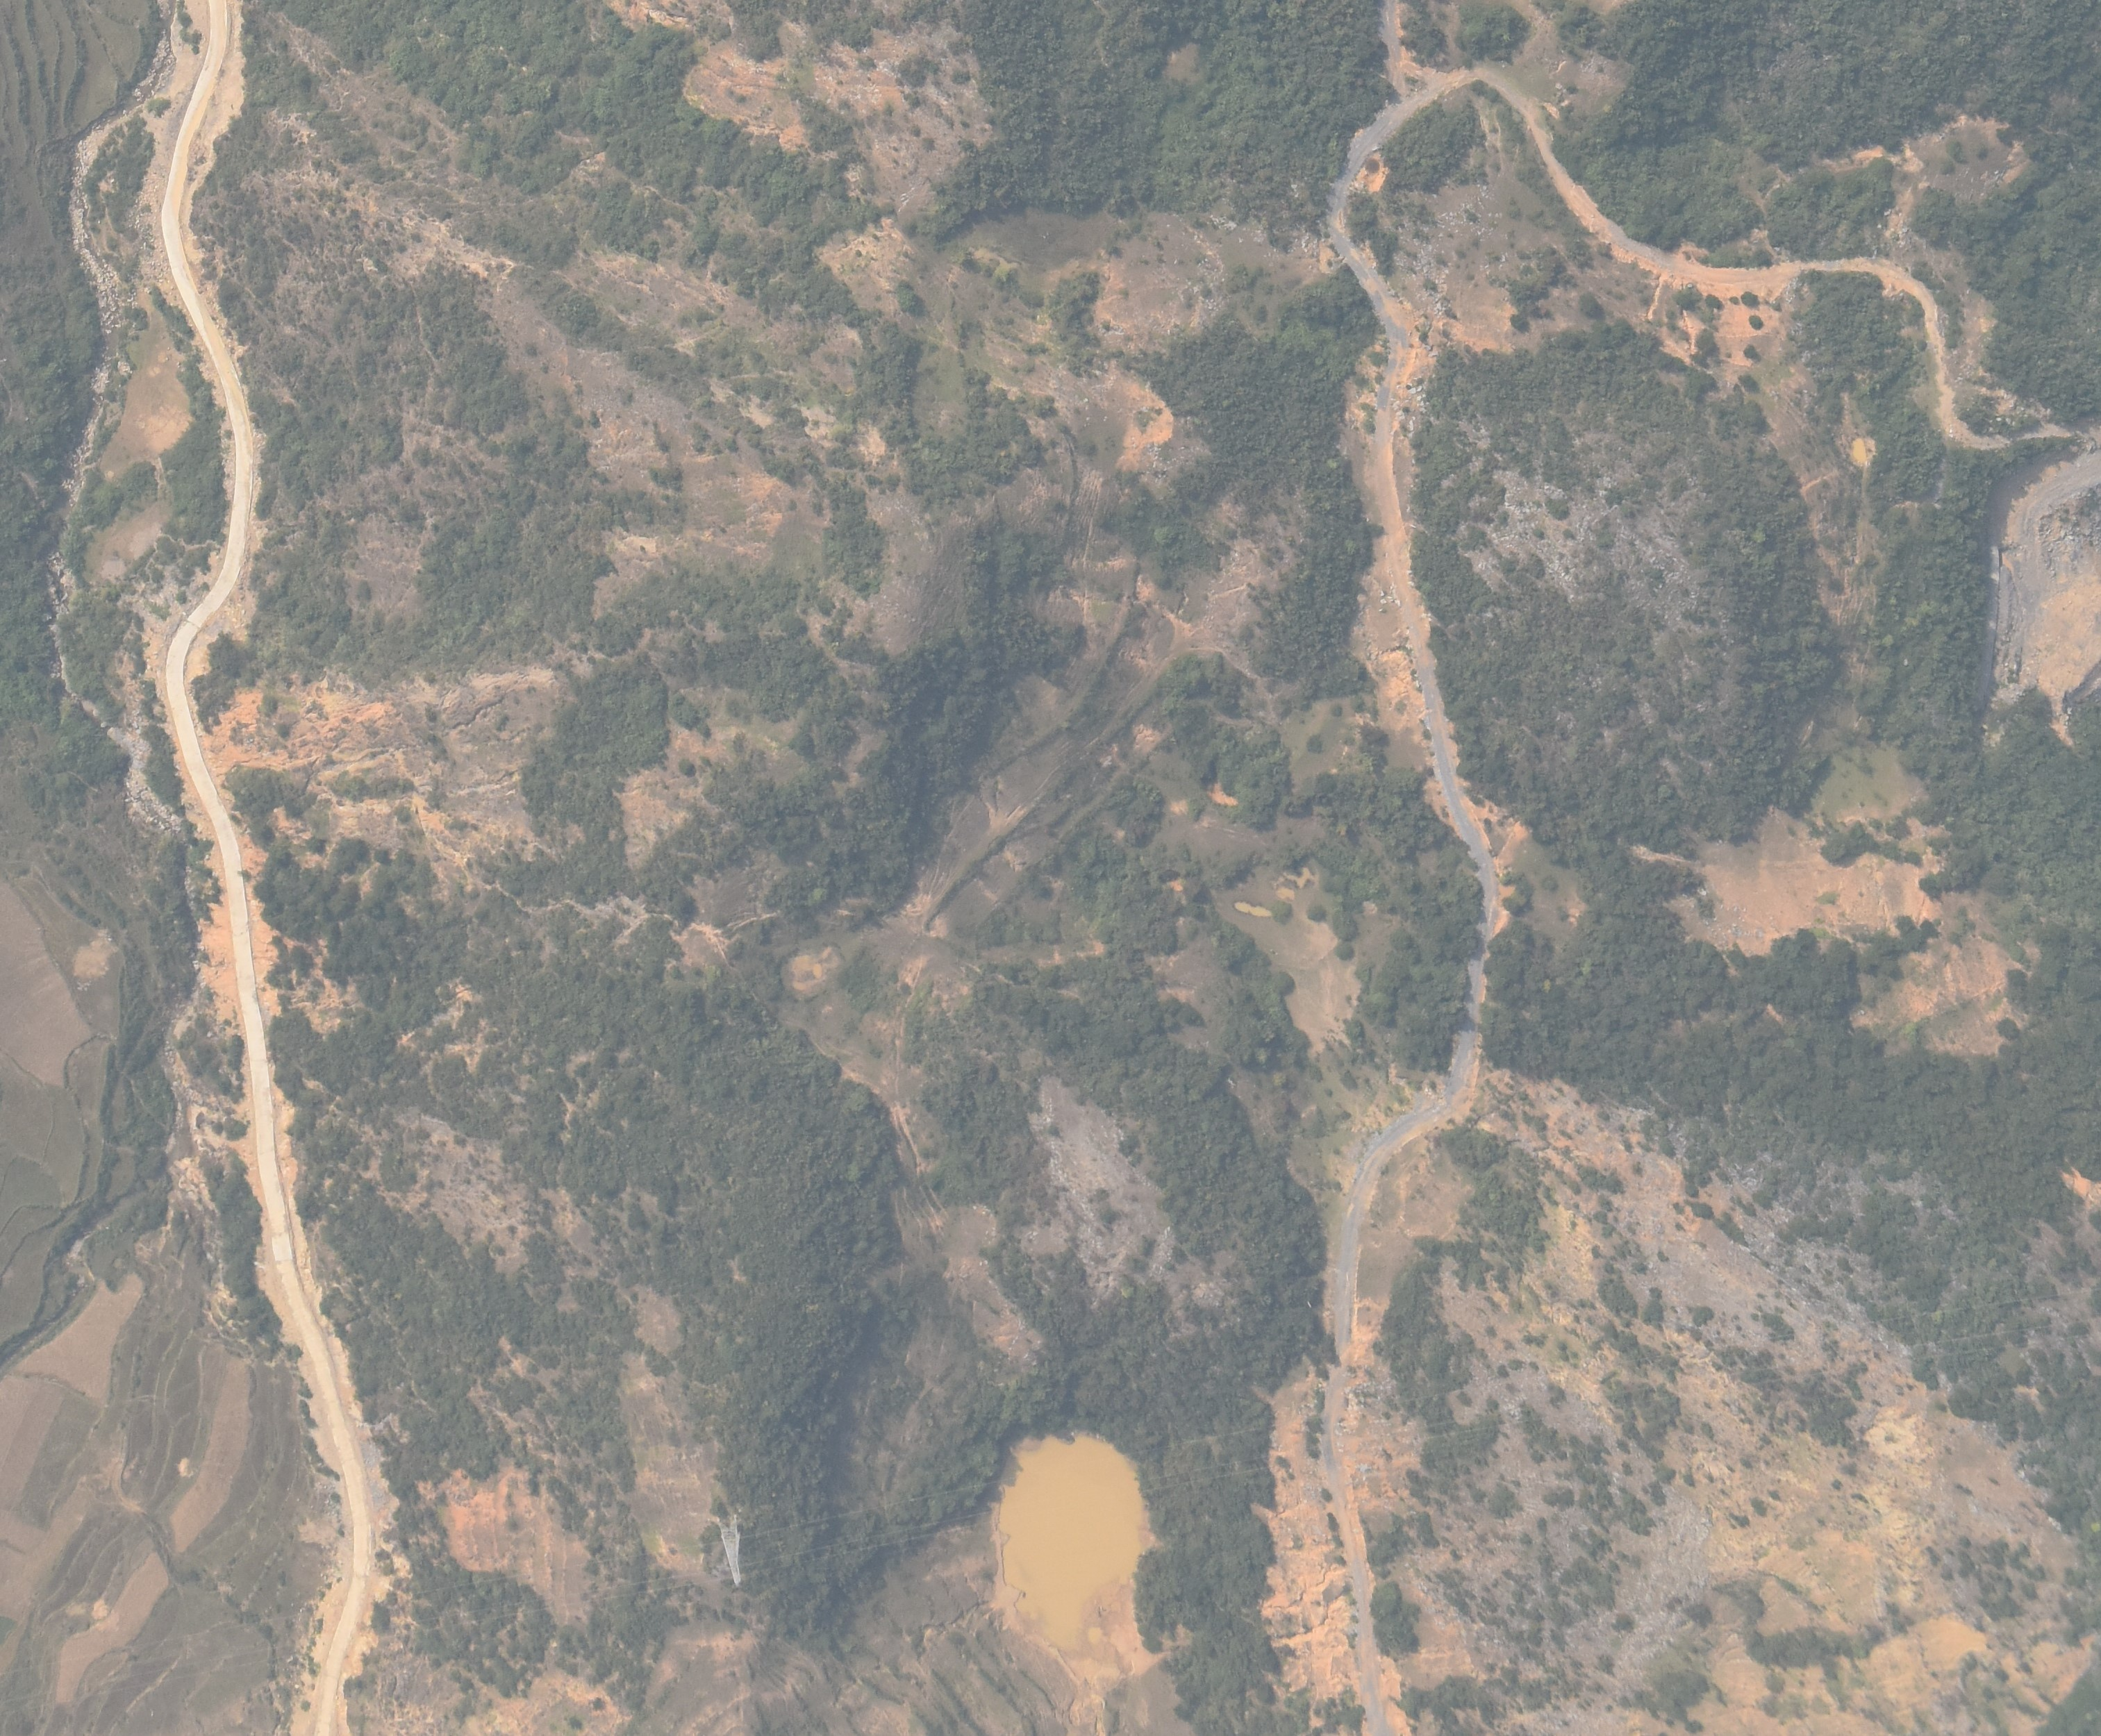cable-tower: (715, 1518, 742, 1586)
pool: (991, 1429, 1152, 1661)
